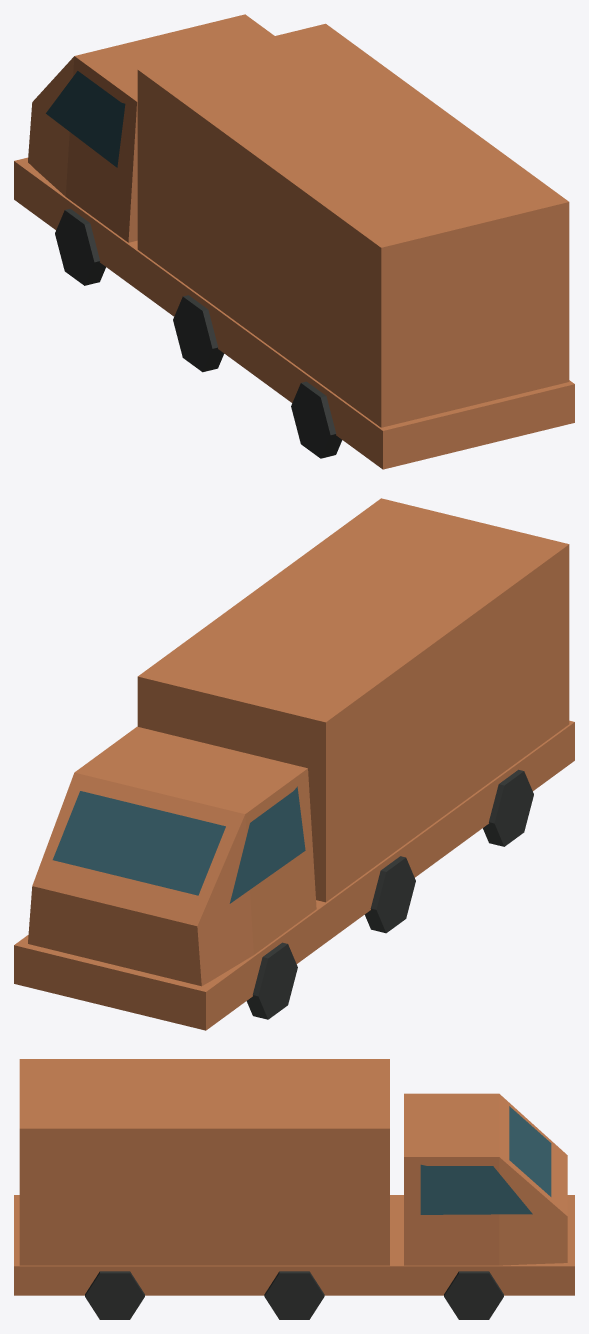
Rendered from truck_far.glb.
3 renders of one model, top to bottom at view 1: azimuth 30°, elevation 25°; view 2: azimuth 150°, elevation 25°; view 3: azimuth 270°, elevation 25°, orthographic. The views are drawn at different scales.
Parts seen in each view (by area): view 1: TruckModel traffic_copper, TruckModel traffic_rubber, TruckModel traffic_glass; view 2: TruckModel traffic_copper, TruckModel traffic_glass, TruckModel traffic_rubber; view 3: TruckModel traffic_copper, TruckModel traffic_glass, TruckModel traffic_rubber.
Part boxes in pixels (box(x1,y1,x2,y2)): TruckModel traffic_copper: box(14, 14, 574, 469); TruckModel traffic_rubber: box(55, 208, 342, 458); TruckModel traffic_glass: box(46, 71, 125, 167); TruckModel traffic_copper: box(14, 498, 574, 1030); TruckModel traffic_glass: box(52, 786, 305, 903); TruckModel traffic_rubber: box(246, 769, 533, 1019); TruckModel traffic_copper: box(14, 1059, 574, 1295); TruckModel traffic_glass: box(420, 1106, 551, 1214); TruckModel traffic_rubber: box(85, 1271, 503, 1319).
Size of the model in its own units: 2.68 by 3.11 by 8.41.
